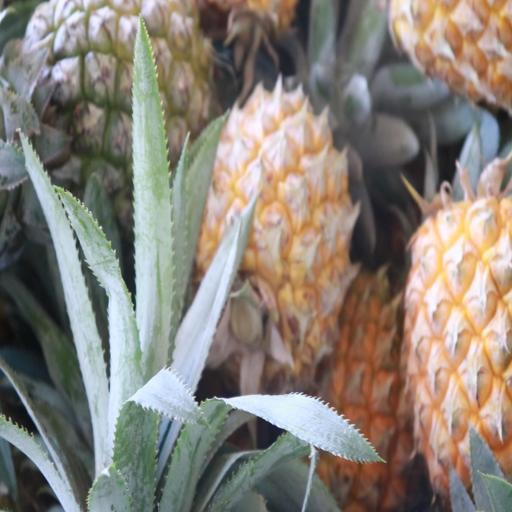Pineapple - v8 v1: (192, 98, 349, 382), (405, 198, 512, 504), (307, 269, 411, 508)
